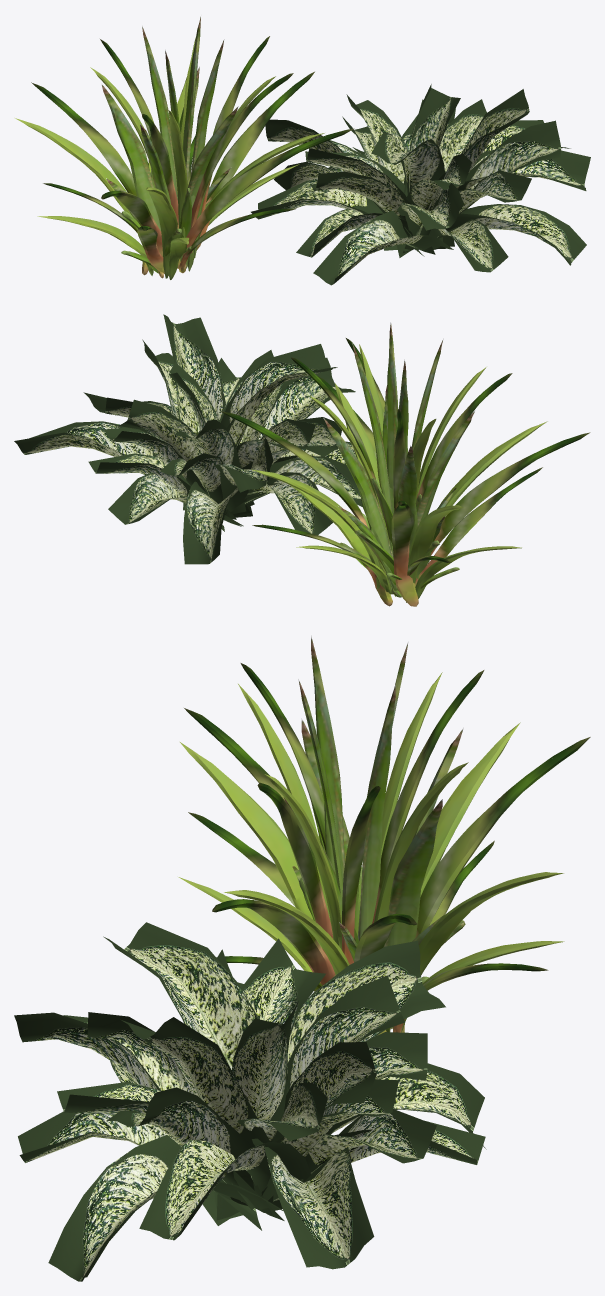
Rendered from Matas.glb.
3 views of the same model, one above another, from view 1: azimuth 30°, elevation 25°; view 2: azimuth 150°, elevation 25°; view 3: azimuth 270°, elevation 25° (orthographic). The views are drawn at different scales.
Visible parts, largest first — view 1: eb_AGLAONEMA_SW_LP_Defintion_001_Defintion, Group#111 (×11), Group#113 (×7), Group#112 (×9), Group#122 (×2); view 2: eb_AGLAONEMA_SW_LP_Defintion_001_Defintion, Group#111 (×8), Group#112 (×11), Group#113 (×9), Group#122 (×2), Group#121; view 3: eb_AGLAONEMA_SW_LP_Defintion_001_Defintion, Group#111 (×10), Group#112 (×10), Group#113 (×4).
Boxes of the visible parts, <box> form: eb_AGLAONEMA_SW_LP_Defintion_001_Defintion: <box>251,84,590,285</box>; Group#111 (×11): <box>31,36,354,278</box>; Group#113 (×7): <box>101,16,238,230</box>; Group#112 (×9): <box>15,67,324,279</box>; Group#122 (×2): <box>121,159,211,256</box>; eb_AGLAONEMA_SW_LP_Defintion_001_Defintion: <box>14,314,362,564</box>; Group#111 (×8): <box>221,357,590,606</box>; Group#112 (×11): <box>251,344,547,602</box>; Group#113 (×9): <box>323,322,475,596</box>; Group#122 (×2): <box>354,478,447,594</box>; Group#121: <box>340,542,459,597</box>; eb_AGLAONEMA_SW_LP_Defintion_001_Defintion: <box>14,922,486,1281</box>; Group#111 (×10): <box>184,663,590,1034</box>; Group#112 (×10): <box>178,672,564,1032</box>; Group#113 (×4): <box>298,635,442,946</box>.
Size of the model in its own units: 2.14 by 0.9844 by 1.31.
Materials: 2 (2 with a texture image).
